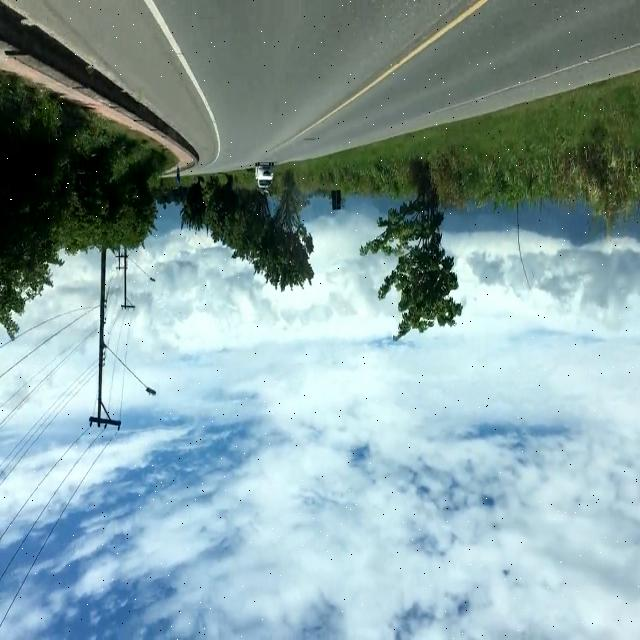lane: (278, 0, 489, 148), (144, 0, 220, 144)
road: (8, 1, 640, 173)
